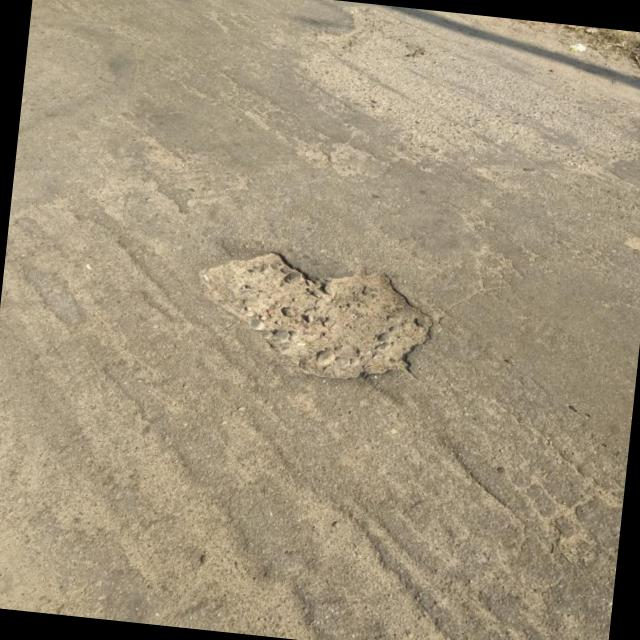Lubang: (201, 253, 434, 378)
